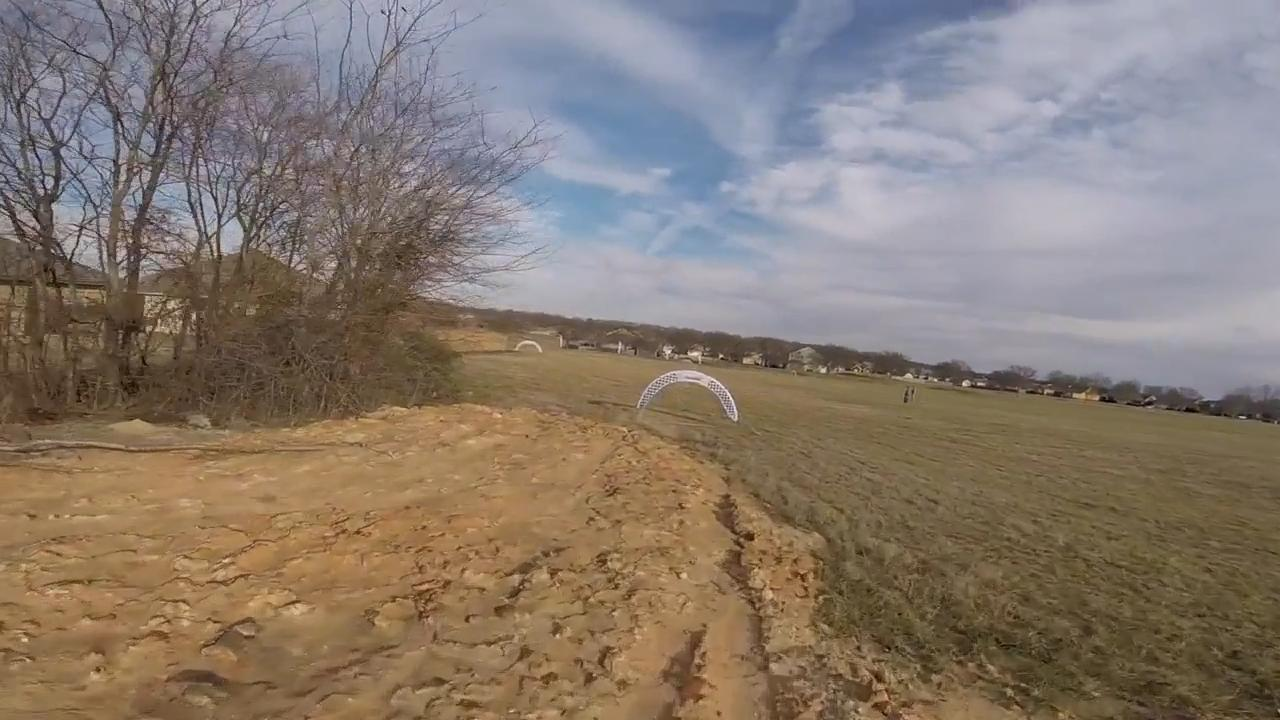gate: (637, 367, 739, 424)
